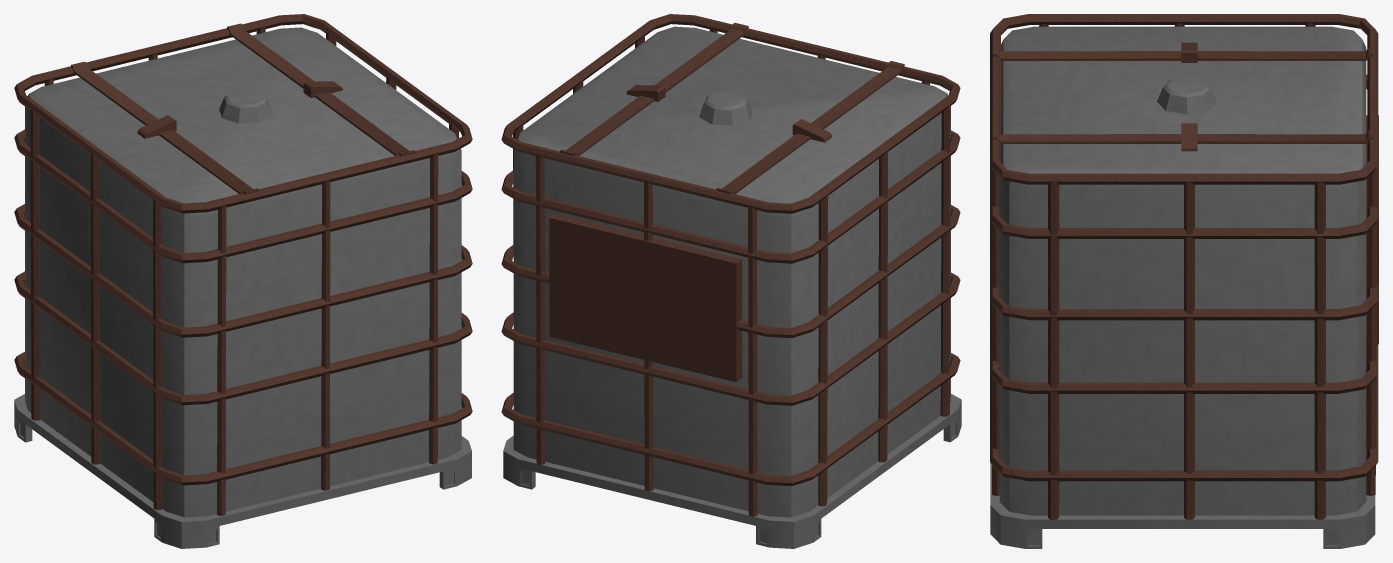
Rendered from Bochka1t.fbx.
The picture shows the model from 3 angles, left to right: view 1: azimuth 30°, elevation 25°; view 2: azimuth 150°, elevation 25°; view 3: azimuth 270°, elevation 25°; orthographic projection. The views are drawn at different scales.
Visible parts, largest first — view 1: Cube.016; view 2: Cube.016; view 3: Cube.016.
Part boxes in pixels (left/top/right/bottom): Cube.016: left=14, top=14, right=472, bottom=548; Cube.016: left=501, top=14, right=961, bottom=548; Cube.016: left=990, top=14, right=1378, bottom=548.
Size of the model in its own units: 143 by 157 by 143.
